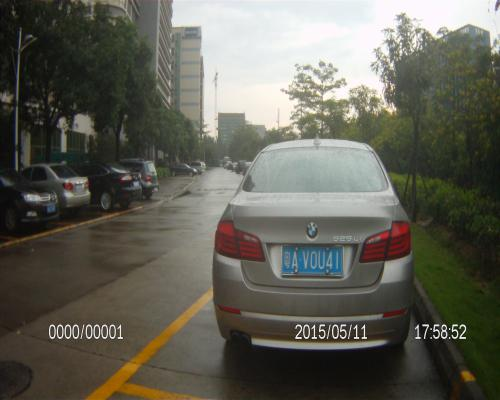Carplate: (280, 238, 346, 283)
